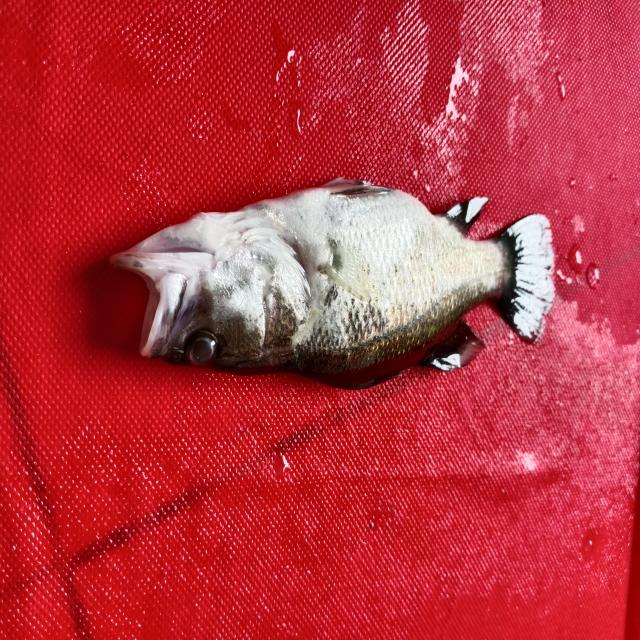ikan: (84, 163, 585, 394)
